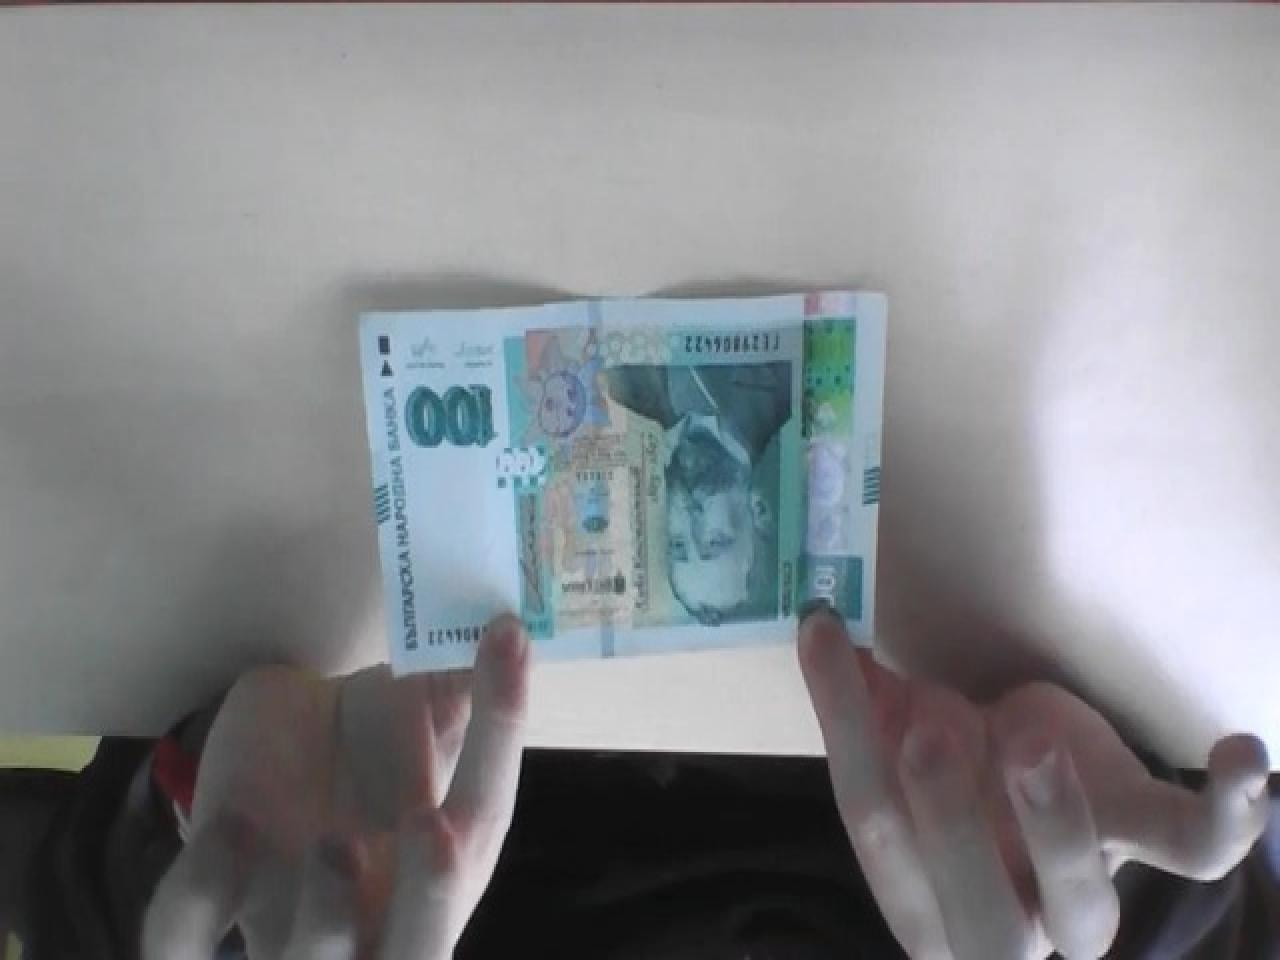100leva: (358, 290, 890, 678), (602, 360, 796, 632), (404, 384, 500, 453)
